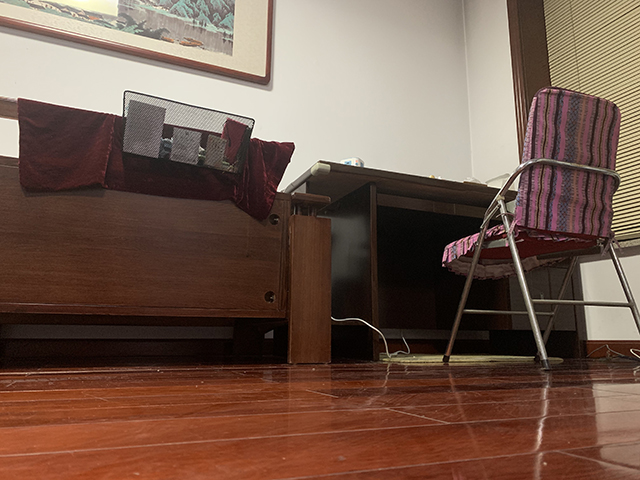bed: (1, 88, 334, 364)
carpet: (379, 351, 565, 368)
stool: (440, 86, 640, 374)
table: (281, 159, 589, 361)
wire: (330, 315, 412, 359), (586, 343, 640, 363)
